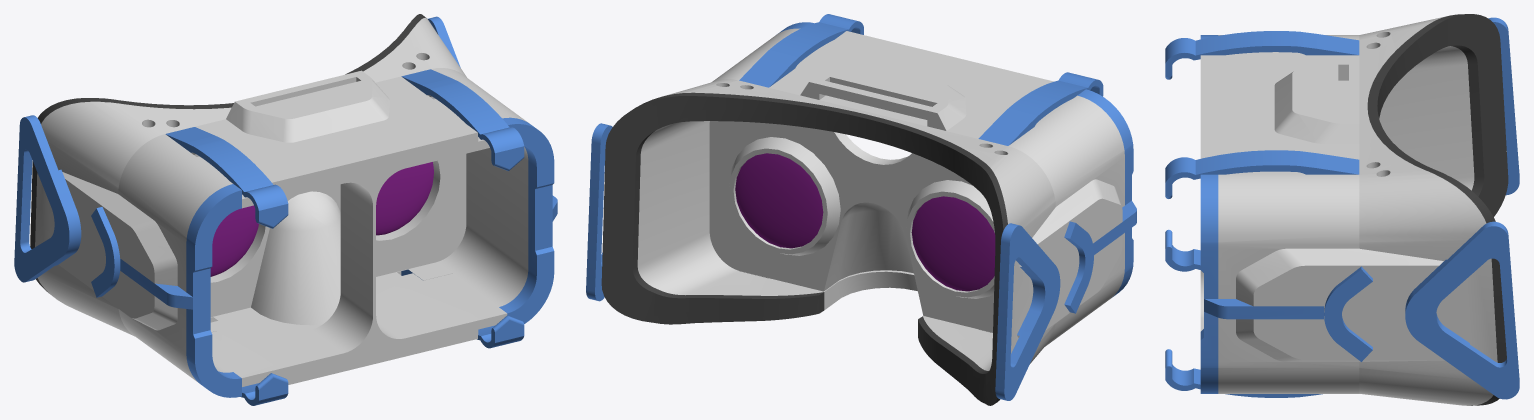
Rendered from shlem.FBX.
3 views of the same model, side by side, from view 1: azimuth 30°, elevation 25°; view 2: azimuth 150°, elevation 25°; view 3: azimuth 270°, elevation 25° (orthographic). The views are drawn at different scales.
Parts seen in each view (by area): view 1: Mesh1, Object009, Object010, Object011, Sphere004, Sphere003, Object012; view 2: Mesh1, Object012, Object009, Sphere004, Sphere003, Object010; view 3: Mesh1, Object009, Object012, Object011.
Boxes of the visible parts, bbox=[...] form: Mesh1: bbox=[35, 18, 528, 386]; Object009: bbox=[14, 16, 557, 405]; Object010: bbox=[186, 184, 241, 397]; Object011: bbox=[499, 117, 554, 323]; Sphere004: bbox=[376, 162, 433, 235]; Sphere003: bbox=[210, 205, 258, 276]; Object012: bbox=[30, 14, 426, 292]; Mesh1: bbox=[637, 28, 1124, 370]; Object012: bbox=[601, 92, 1007, 405]; Object009: bbox=[586, 14, 1136, 400]; Sphere004: bbox=[735, 153, 823, 248]; Sphere003: bbox=[911, 196, 995, 291]; Object010: bbox=[1077, 89, 1133, 297]; Mesh1: bbox=[1200, 16, 1497, 405]; Object009: bbox=[1165, 17, 1519, 399]; Object012: bbox=[1367, 14, 1508, 405]; Object011: bbox=[1200, 174, 1218, 393].
Bounding box in the file's own units: 55.06 × 29.45 × 39.53.
